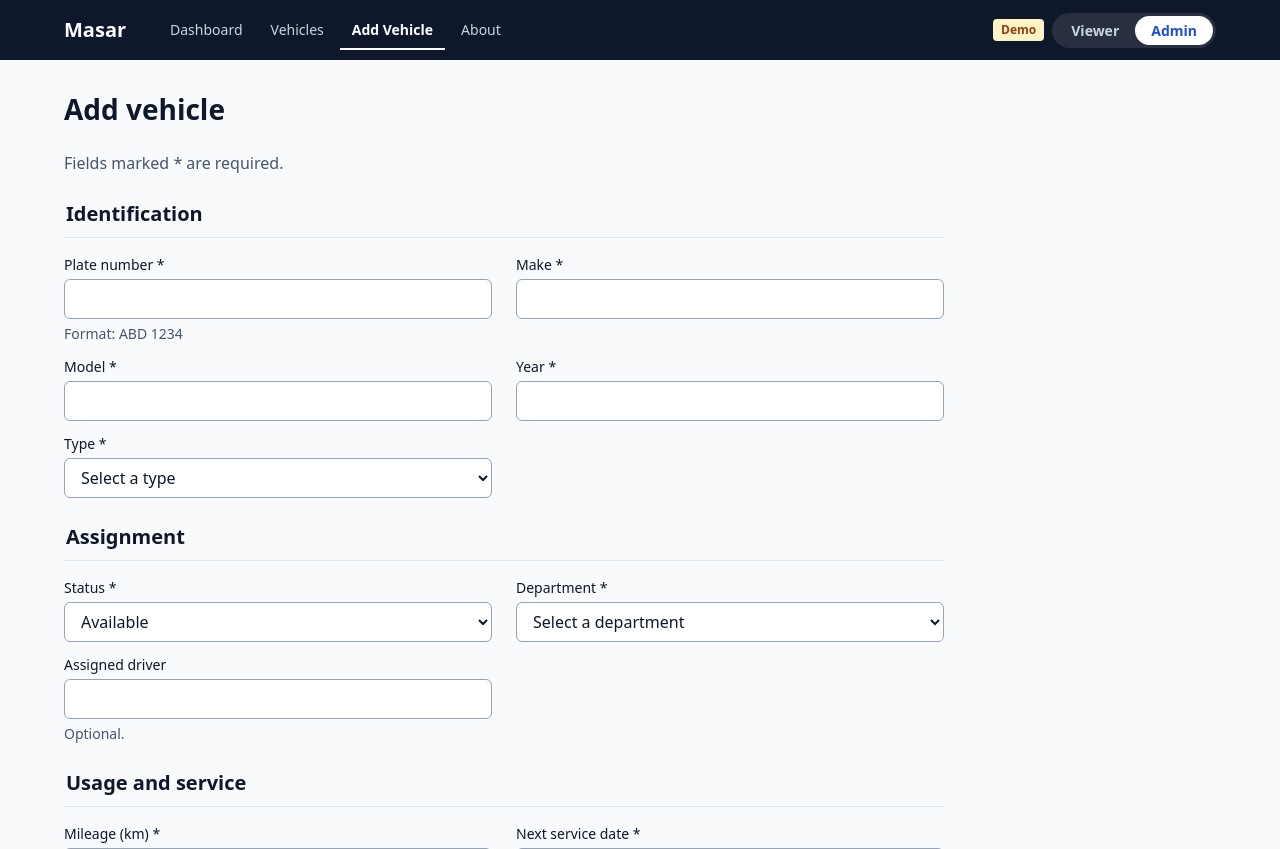
Test case: Add vehicle (US-4) › rejects a plate with a non-Saudi letter (AC-4.2) and a duplicate plate (AC-4.3)
Type "abc 1234" into the field labelled "Plate number *" at (278, 299), box [64, 279, 492, 319]
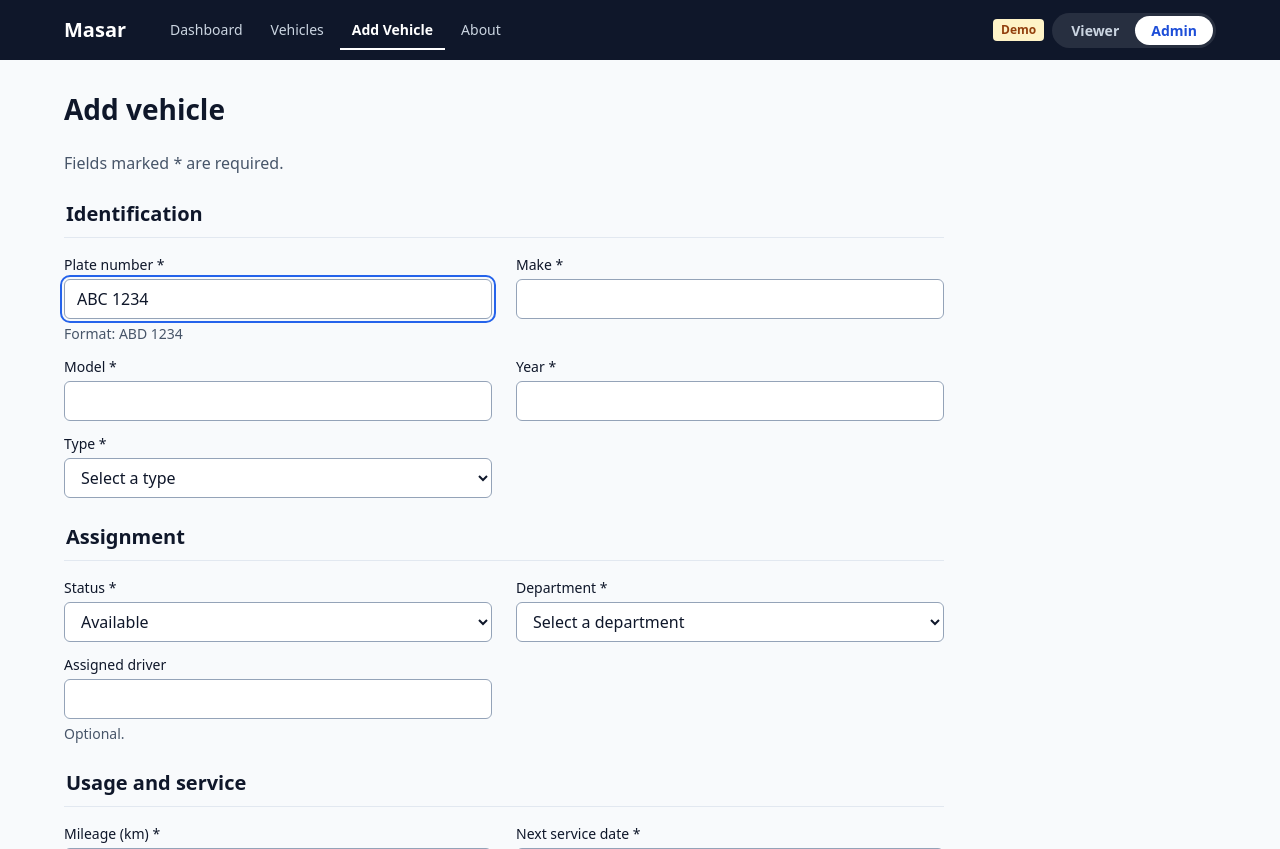
Press Tab
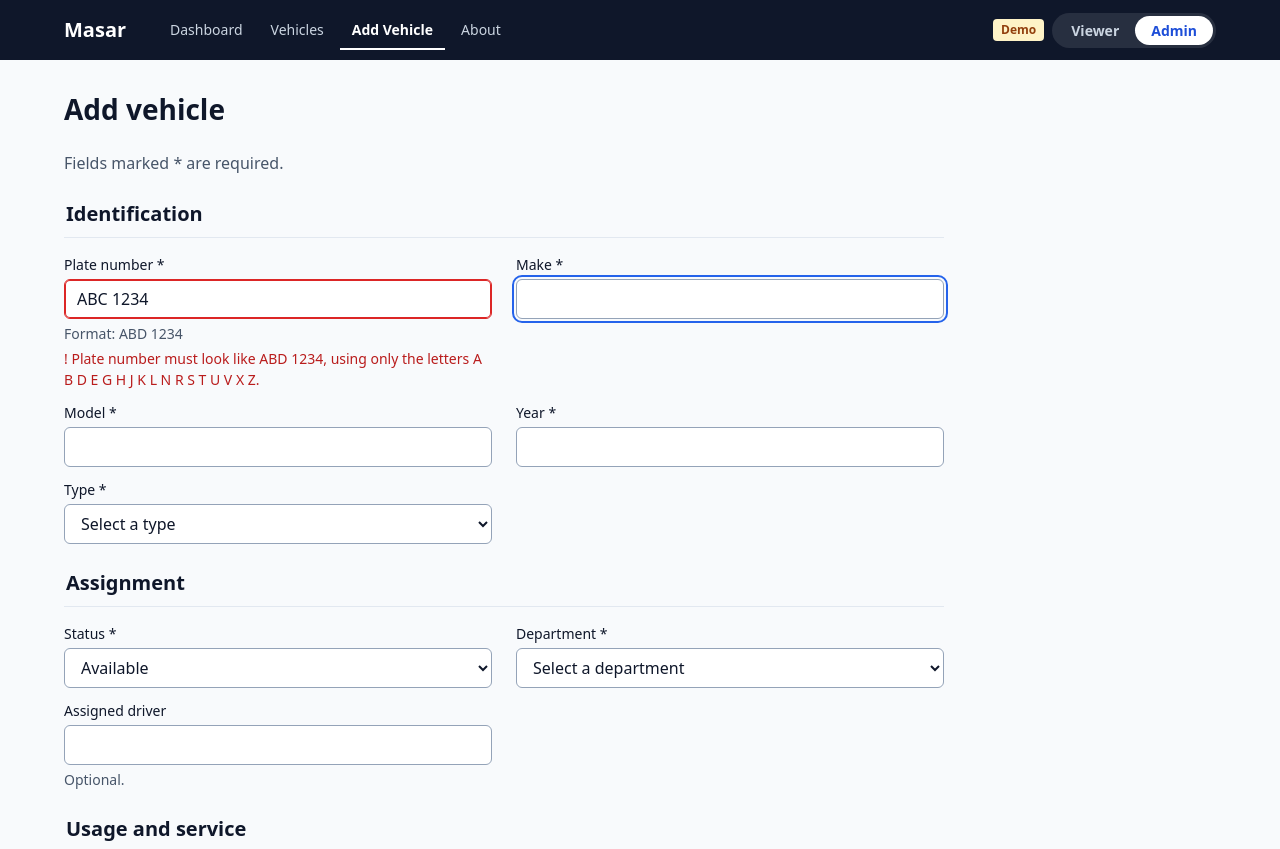
Replace the text in the field labelled "Plate number *" with "ksa 4821" at (278, 299), box [64, 279, 492, 319]
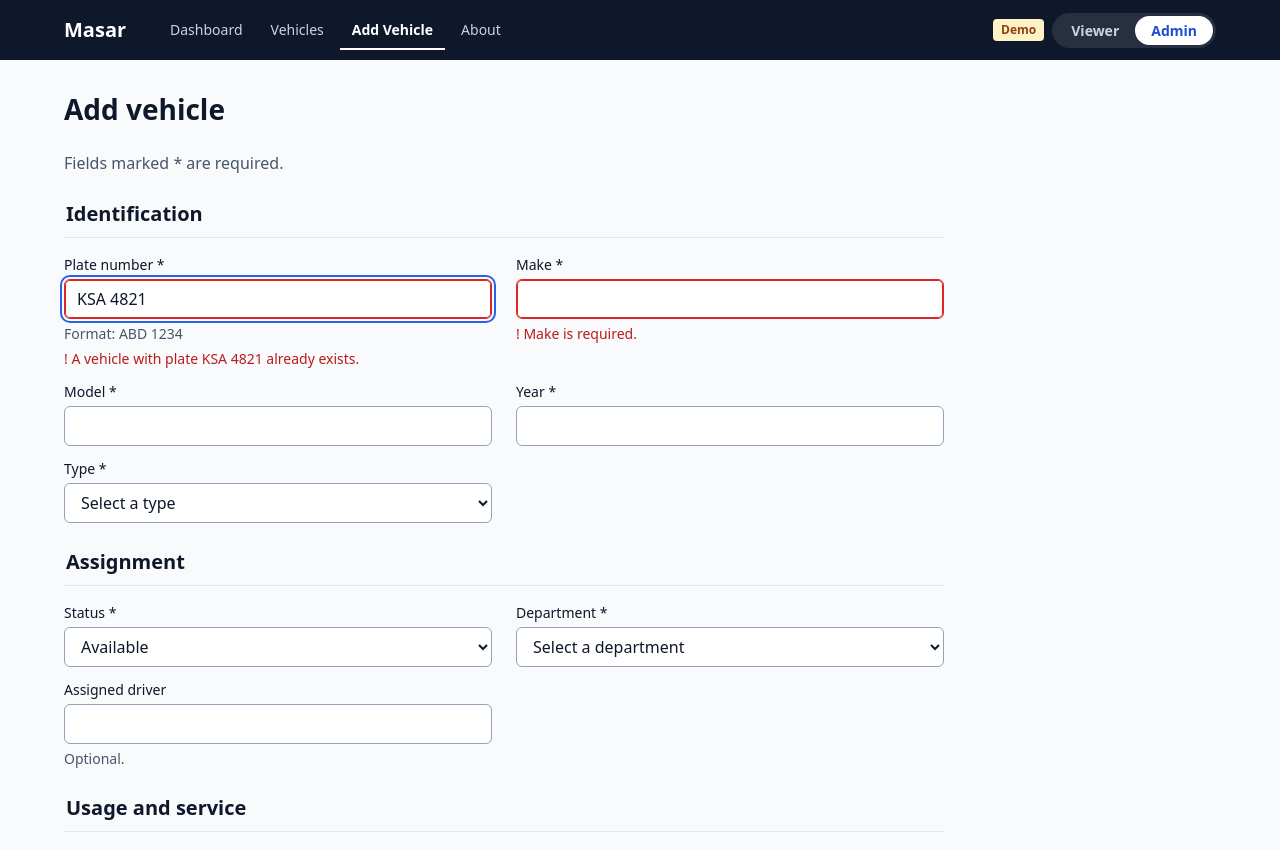
Now the text "A vehicle with plate KSA 4821 already exists." is shown, box [71, 349, 359, 368]
